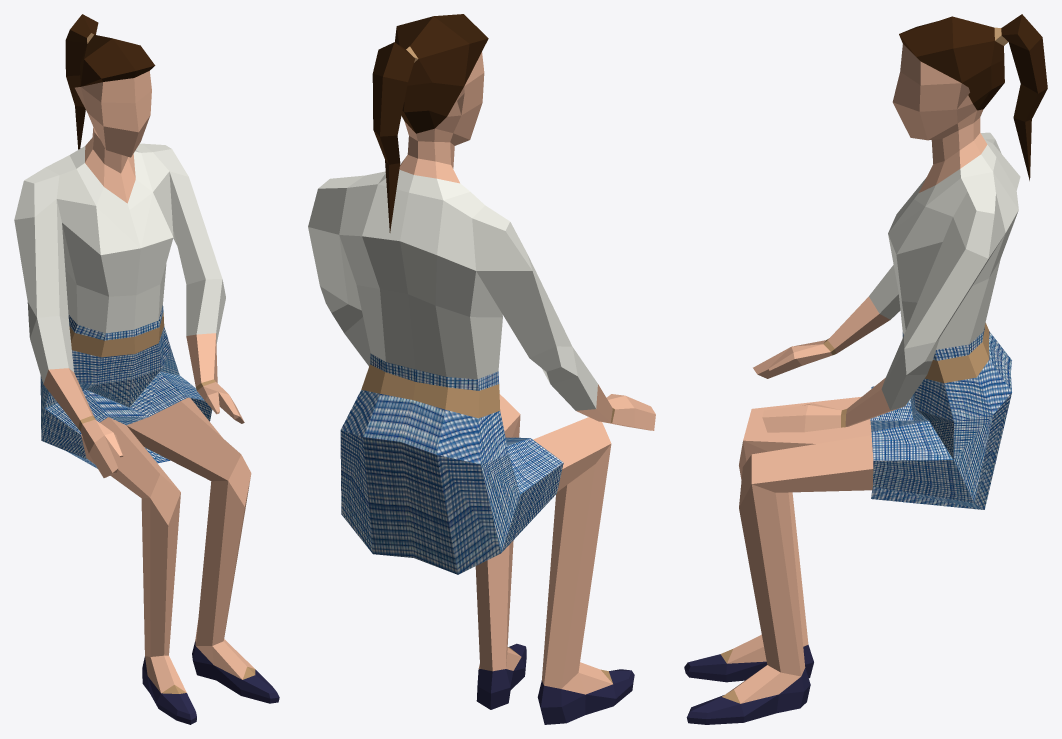
The model's file is SpringWomanB.009.glb.
3 renders of one model, left to right at view 1: azimuth 30°, elevation 25°; view 2: azimuth 150°, elevation 25°; view 3: azimuth 270°, elevation 25°, orthographic. The views are drawn at different scales.
Parts seen in each view (by area): view 1: SpringWomanB.010; view 2: SpringWomanB.010; view 3: SpringWomanB.010.
Boxes of the visible parts, x1,y1,x2,y2 form: SpringWomanB.010: [14, 14, 279, 724]; SpringWomanB.010: [308, 14, 655, 724]; SpringWomanB.010: [684, 14, 1047, 724].
Size of the model in its own units: 0.4608 by 1.35 by 0.6558.
1 material, 1 textured.
